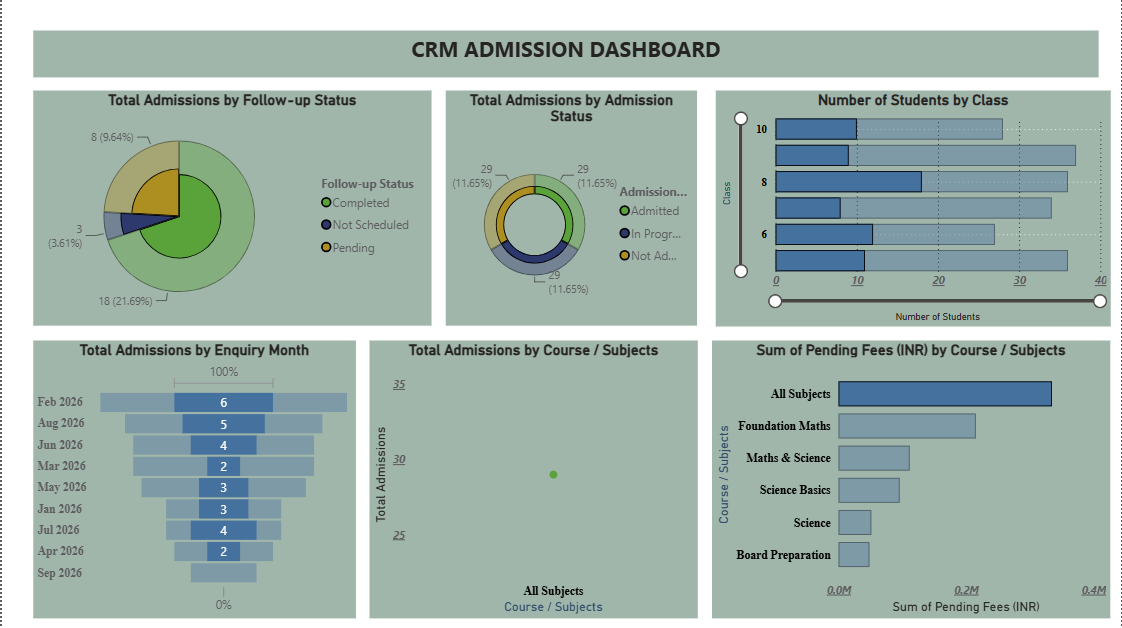

This screenshot's page, from the dashboard's own definition file:
{"tool":"powerbi","page":{"name":"Admission","canvas":[1280,720],"ordinal":1},"visuals":[{"type":"clusteredBarChart","fields":{"Category":["EnquiryData.Class"],"Y":["EnquiryData.Number of Students"]},"box":[815,106.2,451.2,268.8],"z":0},{"type":"barChart","fields":{"Category":["EnquiryData.Course / Subjects"],"Y":["Sum(EnquiryData.Pending Fees (INR))"]},"box":[811.2,391.2,455,317.5],"z":1000},{"type":"pieChart","fields":{"Y":["EnquiryData.Total Admissions"],"Series":["EnquiryData.Follow-up Status"]},"box":[36.2,106.2,455,268.8],"z":2000},{"type":"donutChart","fields":{"Category":["EnquiryData.Admission Status"],"Y":["EnquiryData.Total Admissions"]},"box":[507.5,106.2,287.5,268.8],"z":3000},{"type":"textbox","box":[36.2,37.5,1217.5,53.8],"z":4000},{"type":"areaChart","fields":{"Category":["EnquiryData.Course / Subjects"],"Y":["EnquiryData.Total Admissions"]},"box":[420,391.2,375,317.5],"z":5000},{"type":"funnel","fields":{"Y":["EnquiryData.Total Admissions"],"Category":["EnquiryData.Enquiry Month"]},"box":[36.2,391.2,368.8,317.5],"z":6000}]}

Visuals, with their boxes in screenshot pixels (x1, y1, x2, y2), scaled from the page's 1280x720 canvas onto the 1122x628 screenshot:
clusteredBarChart - EnquiryData.Class x EnquiryData.Number of Students: BBox(714, 93, 1110, 327)
barChart - EnquiryData.Course / Subjects x Sum(EnquiryData.Pending Fees (INR)): BBox(711, 341, 1110, 618)
pieChart - EnquiryData.Total Admissions x EnquiryData.Follow-up Status: BBox(32, 93, 431, 327)
donutChart - EnquiryData.Admission Status x EnquiryData.Total Admissions: BBox(445, 93, 697, 327)
textbox: BBox(32, 33, 1099, 80)
areaChart - EnquiryData.Course / Subjects x EnquiryData.Total Admissions: BBox(368, 341, 697, 618)
funnel - EnquiryData.Total Admissions x EnquiryData.Enquiry Month: BBox(32, 341, 355, 618)
